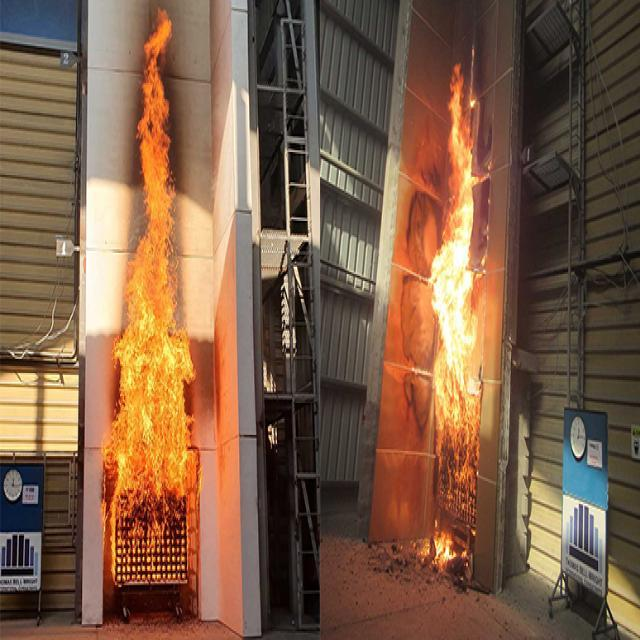Fire: (102, 214, 192, 566), (430, 62, 477, 570), (139, 14, 175, 208)
